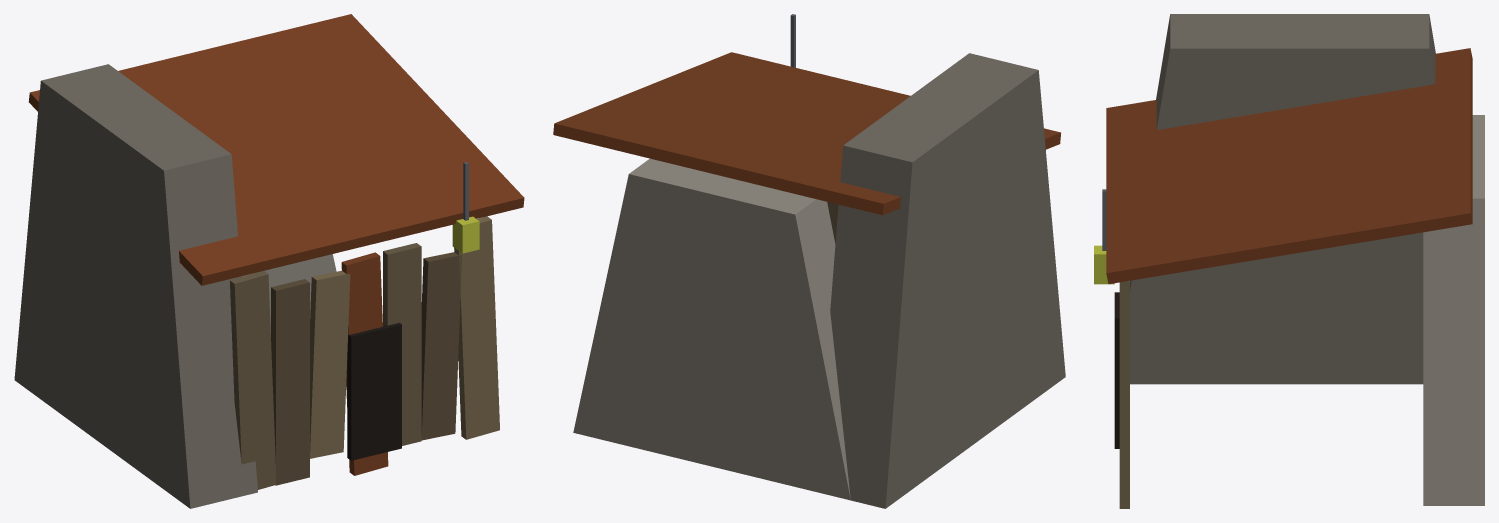
File: ratfolk_house_a.glb
3 renders of one model, left to right at view 1: azimuth 30°, elevation 25°; view 2: azimuth 150°, elevation 25°; view 3: azimuth 270°, elevation 25°, orthographic. The views are drawn at different scales.
Visible parts, largest first — view 1: ratfolk_house_a; view 2: ratfolk_house_a; view 3: ratfolk_house_a.
Boxes of the visible parts, x1,y1,x2,y2 form: ratfolk_house_a: [14, 14, 524, 508]; ratfolk_house_a: [553, 14, 1065, 508]; ratfolk_house_a: [1094, 14, 1484, 508].
Size of the model in its own units: 1.95 by 1.85 by 1.9.
